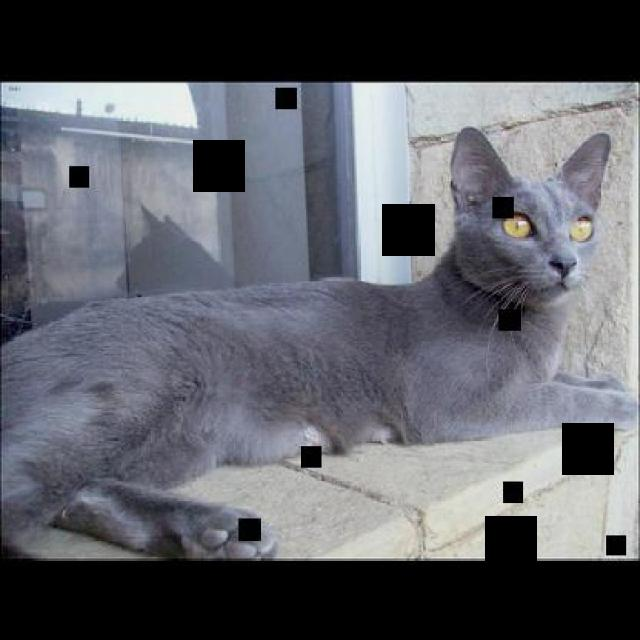unauthorized: (0, 123, 638, 560)
